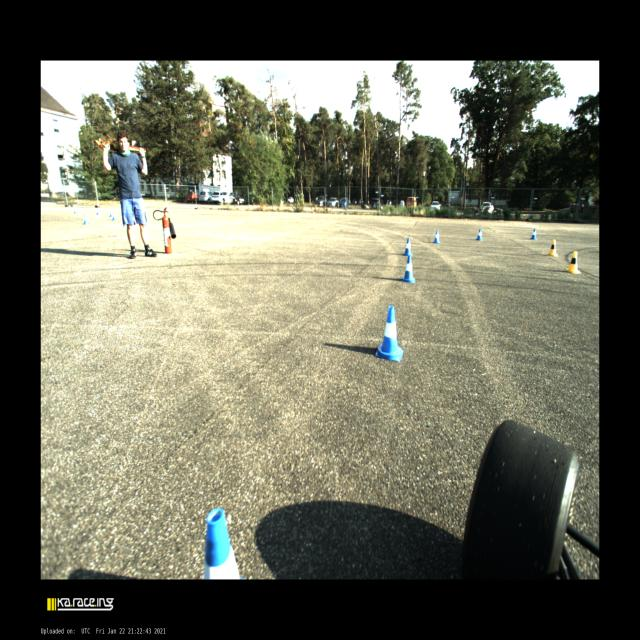blue_cone: (204, 508, 243, 579), (376, 306, 403, 361), (401, 255, 415, 283), (402, 238, 412, 255), (476, 228, 483, 240), (530, 228, 536, 240), (434, 230, 439, 243), (84, 214, 90, 224), (112, 212, 116, 220), (96, 209, 99, 215), (110, 210, 112, 217)
yellow_cone: (566, 251, 580, 273), (548, 240, 558, 256)
